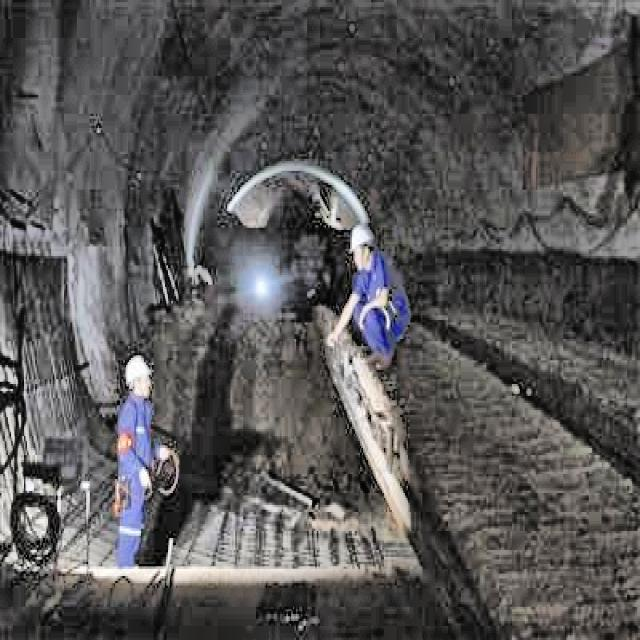helmet: (347, 218, 378, 277), (122, 350, 152, 400)
